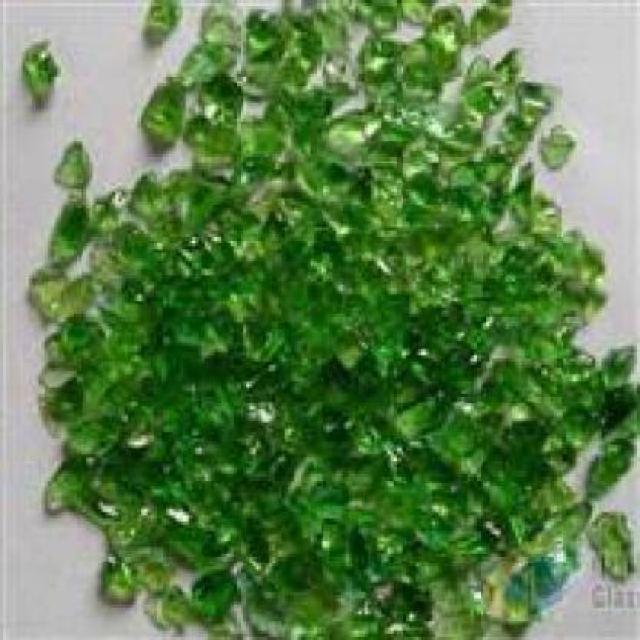kaca: (288, 442, 503, 602), (171, 256, 334, 438), (308, 291, 462, 480), (192, 406, 336, 599), (249, 157, 403, 305), (449, 388, 577, 518), (445, 237, 563, 377), (180, 172, 285, 323), (394, 172, 495, 326), (426, 128, 512, 240), (506, 346, 589, 439), (116, 426, 192, 509), (89, 218, 163, 290), (106, 492, 183, 560), (464, 563, 536, 634), (237, 3, 288, 100), (100, 358, 166, 432), (103, 288, 166, 362), (572, 420, 637, 491), (364, 101, 438, 157), (581, 506, 634, 583), (506, 542, 569, 604), (45, 314, 109, 374), (20, 29, 68, 106), (237, 586, 308, 637), (429, 592, 506, 637), (291, 0, 346, 62), (42, 192, 89, 263), (36, 371, 96, 426), (33, 448, 96, 500), (358, 71, 451, 106), (135, 74, 174, 154), (166, 32, 231, 80), (548, 231, 598, 291), (305, 605, 397, 637), (317, 101, 371, 154), (125, 554, 180, 604), (38, 272, 98, 317), (49, 134, 97, 189), (429, 94, 483, 141), (195, 0, 241, 55), (181, 568, 234, 615), (278, 23, 317, 86), (129, 160, 177, 211), (358, 32, 416, 74), (186, 71, 237, 118), (143, 589, 195, 634), (183, 112, 243, 151), (529, 119, 577, 166), (512, 77, 563, 121), (394, 38, 451, 77), (528, 500, 580, 542), (263, 89, 329, 122), (465, 60, 506, 112), (521, 189, 557, 246), (237, 109, 281, 154), (181, 148, 237, 183), (420, 0, 462, 45), (279, 118, 326, 157), (97, 180, 135, 228), (371, 608, 432, 637), (598, 340, 634, 388), (464, 0, 518, 32), (338, 0, 391, 29), (26, 263, 65, 302), (208, 608, 260, 637), (569, 272, 602, 317), (595, 381, 637, 414), (141, 0, 180, 32), (541, 278, 574, 314), (100, 560, 128, 598), (489, 48, 522, 77), (389, 0, 420, 20)
